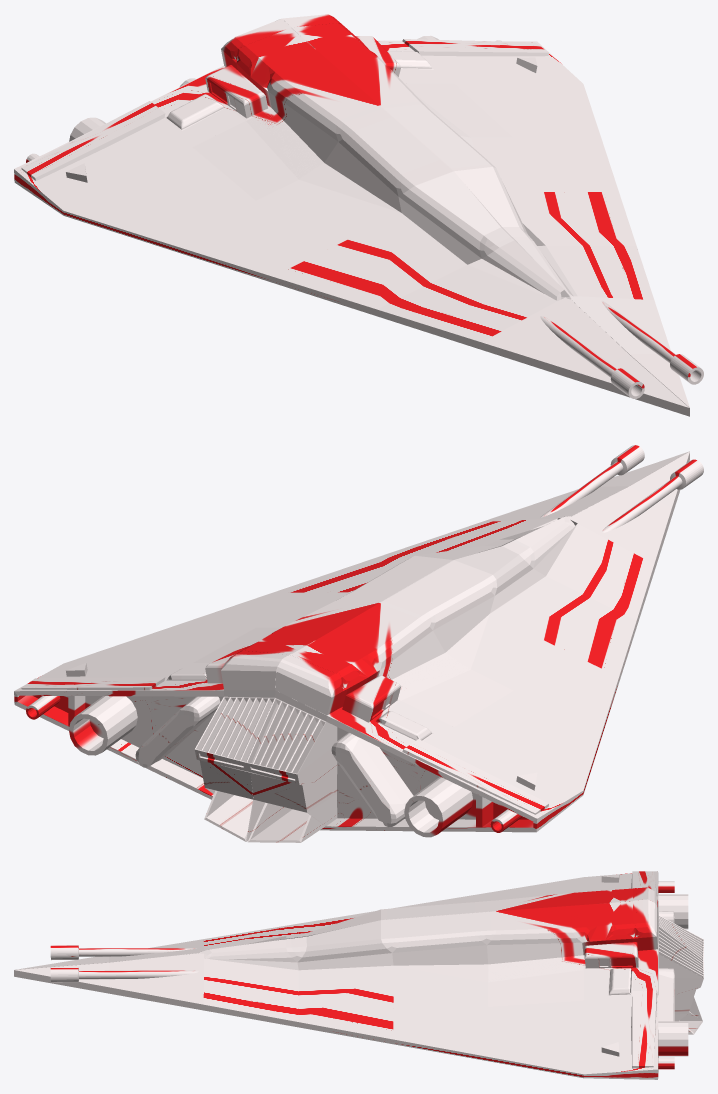
Rendered from SpaceshipNew.glb.
3 renders of one model, top to bottom at view 1: azimuth 30°, elevation 25°; view 2: azimuth 150°, elevation 25°; view 3: azimuth 270°, elevation 25°, orthographic. The views are drawn at different scales.
Visible parts, largest first — view 1: Spaceship_Atari2600_style; view 2: Spaceship_Atari2600_style; view 3: Spaceship_Atari2600_style.
Part boxes in pixels (x1=…): Spaceship_Atari2600_style: x1=14, y1=14, x2=703, y2=416; Spaceship_Atari2600_style: x1=14, y1=445, x2=703, y2=842; Spaceship_Atari2600_style: x1=14, y1=871, x2=703, y2=1079.
Size of the model in its own units: 8.02 by 2.43 by 11.78.
1 material, 1 textured.
